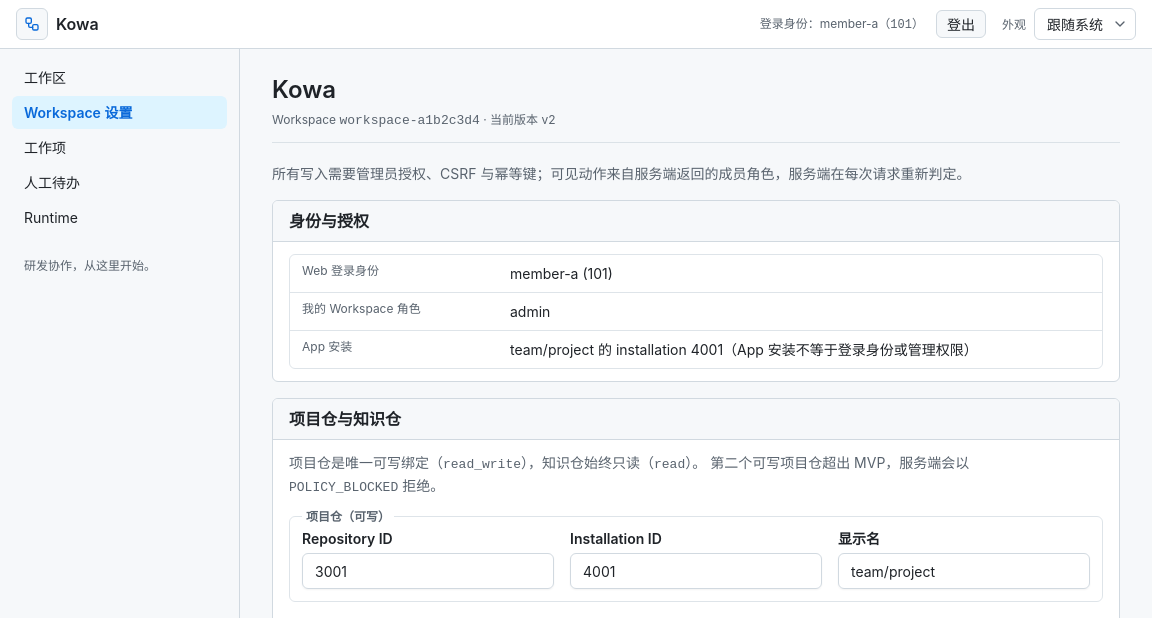
workspace settings page › reports POLICY_BLOCKED without retrying, keeps the input and accepts a later legal write
The image size is (1152, 618).
Expected: the heading "Kowa" is shown, [272,75,336,104]
Replace the text in the field labelled "Repository ID" below "项目仓（可写）" with "3999": (428, 571) [302,553,554,589]
(page scrolled)
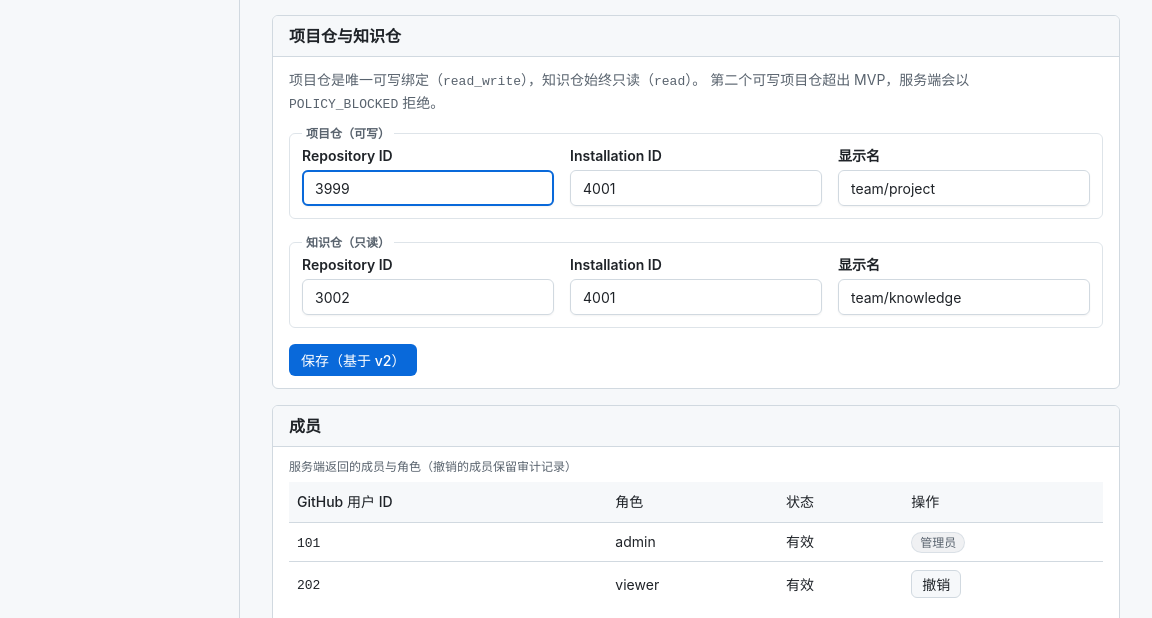
Click the button "保存（基于 v2）": (353, 360) [289,344,417,376]
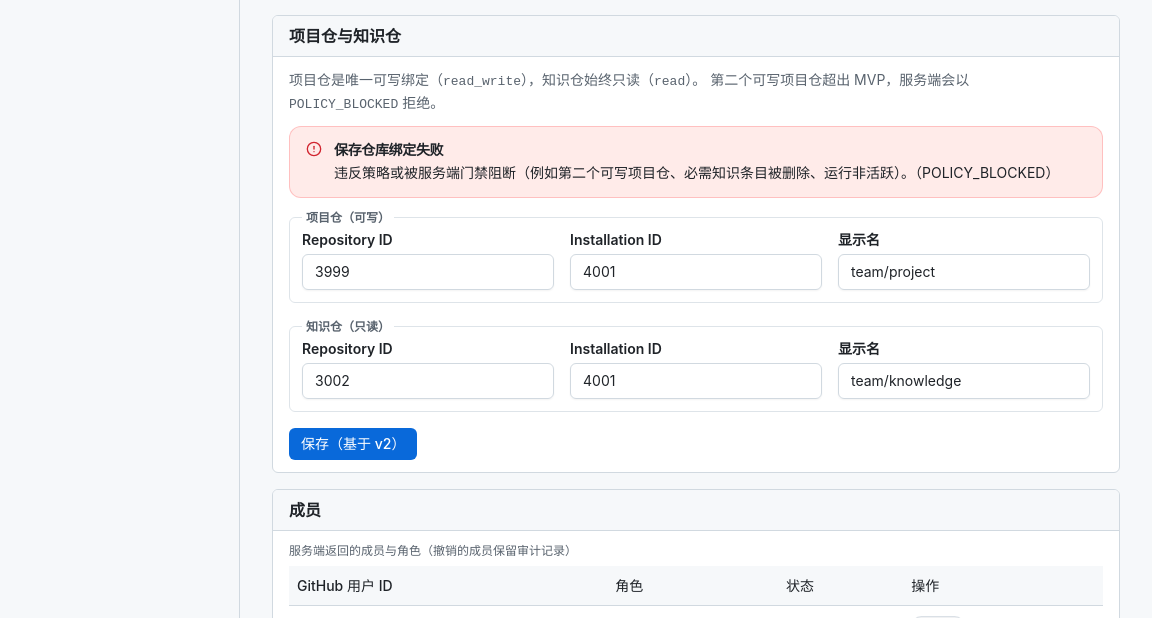
Expected: the message shows "POLICY_BLOCKED", [334,164,1060,181]
Expected: the message shows "第二个可写项目仓", [334,164,1060,181]
Replace the text in the 1st field labelled "显示名" with "team/project-fixed": (964, 272) [838,254,1090,290]
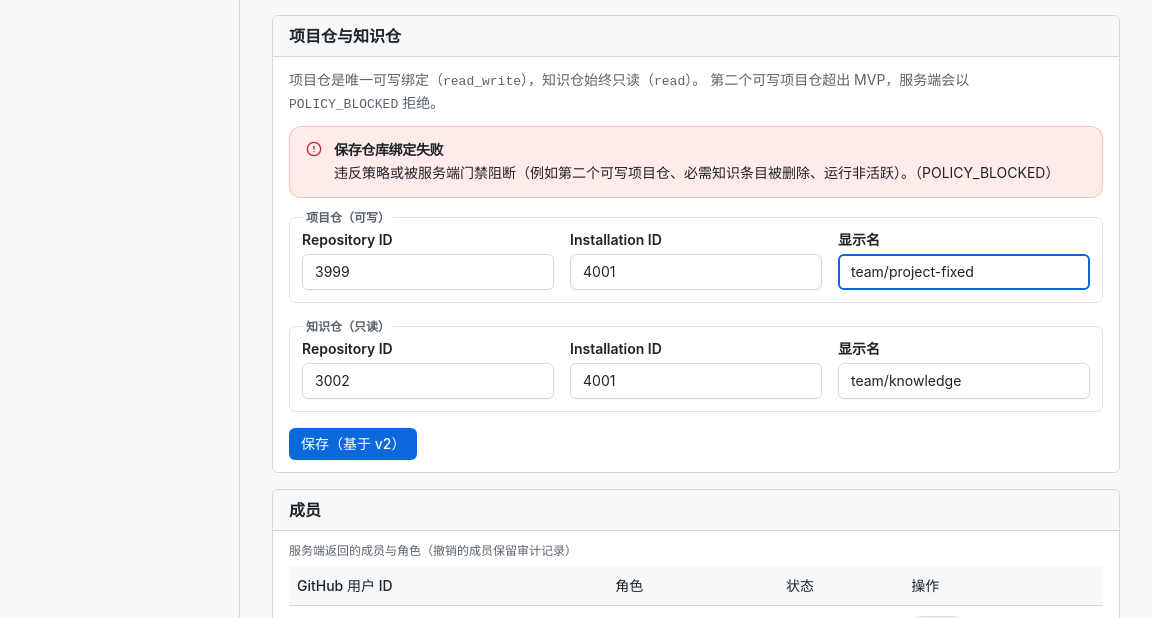
Click the button "保存（基于 v2）": (353, 444) [289,428,417,460]
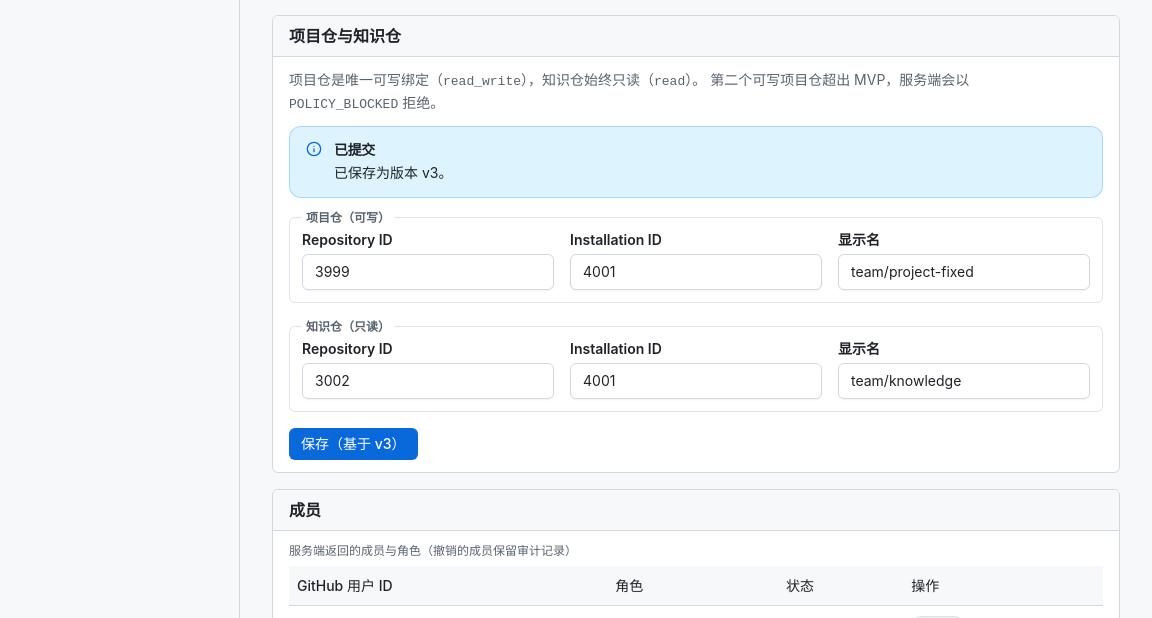
Expected: the text "已保存为版本 v3。" is shown, [334,162,452,185]
